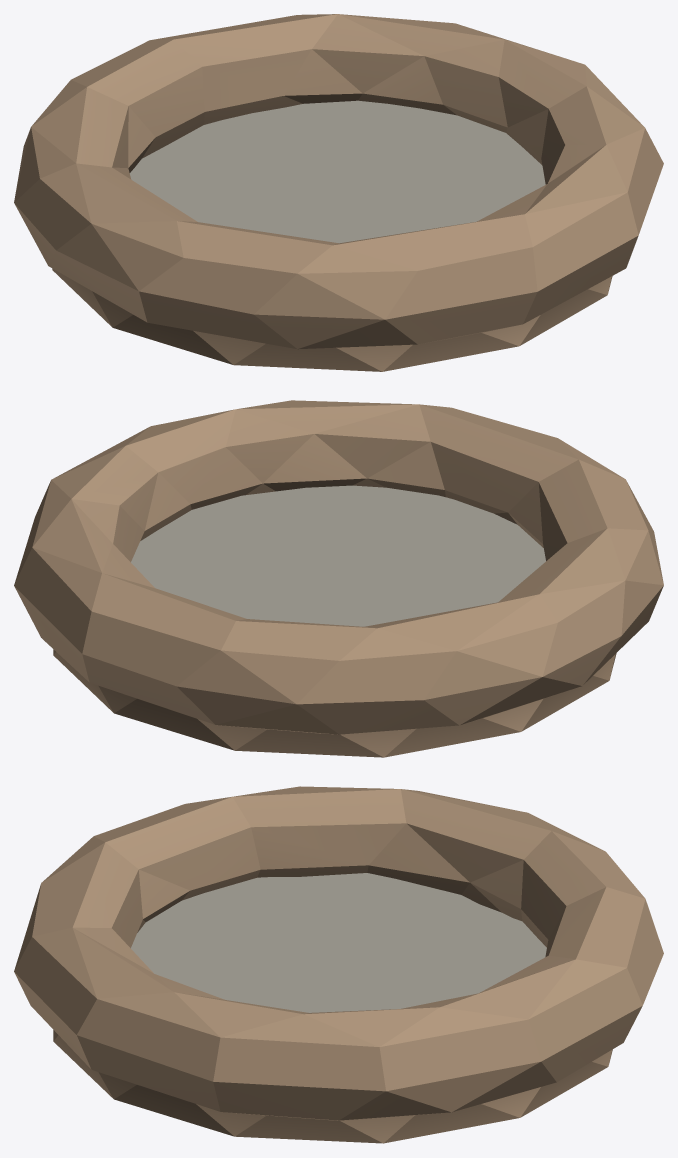
File: petshop_pet_bed__brown_low.glb
The picture shows the model from 3 angles, top to bottom: view 1: azimuth 30°, elevation 25°; view 2: azimuth 150°, elevation 25°; view 3: azimuth 270°, elevation 25°; orthographic projection.
Size of the model in its own units: 1.02 by 0.2103 by 1.02.
